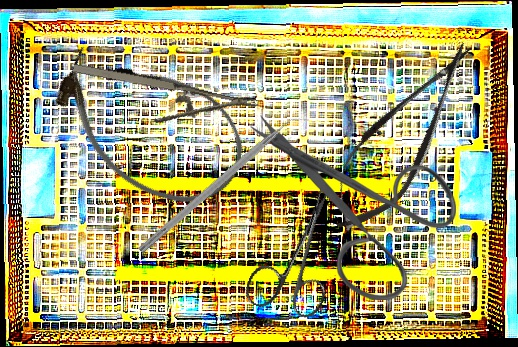Cannula: (32, 22, 266, 230)
Chopper: (137, 107, 312, 263)
Iris Scissors: (247, 115, 456, 300), (241, 172, 361, 327)
Micro Scissor: (311, 25, 495, 247)
Needle Holder: (65, 57, 260, 145)
